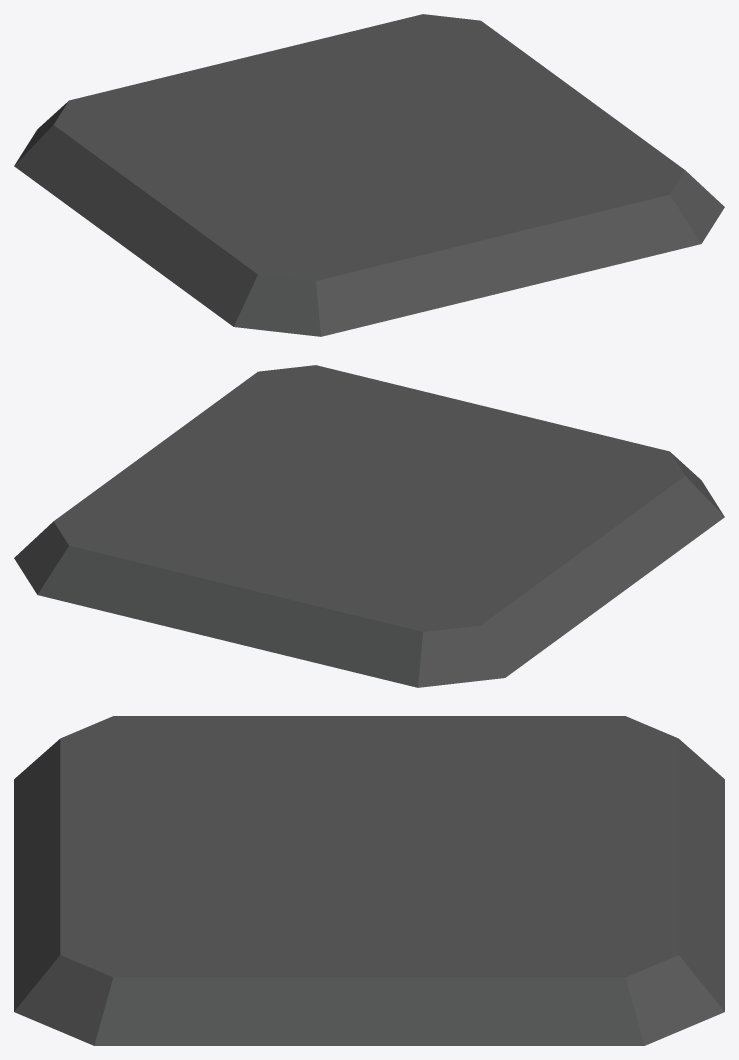
File: Security_cam_006.fbx
3 views of the same model, one above another, from view 1: azimuth 30°, elevation 25°; view 2: azimuth 150°, elevation 25°; view 3: azimuth 270°, elevation 25° (orthographic). The views are drawn at different scales.
Visible parts, largest first — view 1: Security_cam_006; view 2: Security_cam_006; view 3: Security_cam_006.
Boxes of the visible parts, bbox=[...] form: Security_cam_006: bbox=[14, 14, 724, 336]; Security_cam_006: bbox=[14, 365, 724, 687]; Security_cam_006: bbox=[14, 716, 724, 1045].
Size of the model in its own units: 29.78 by 29.78 by 2.26.
